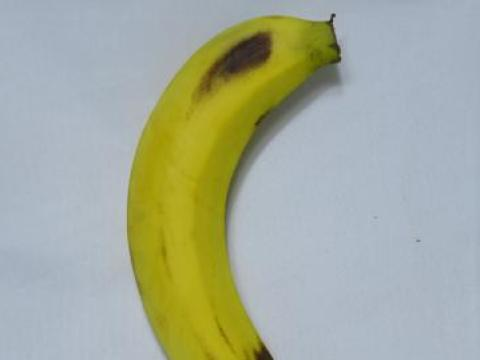freshripe: (108, 8, 335, 359)
